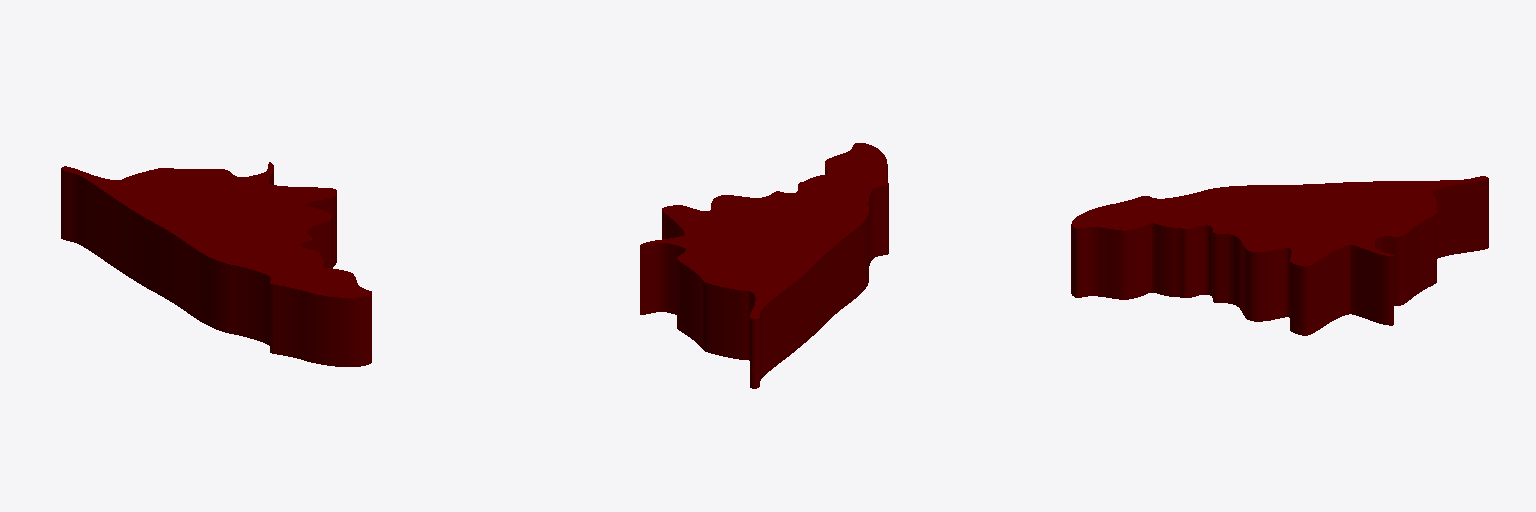
The picture shows the model from 3 angles: view 1: azimuth 30°, elevation 25°; view 2: azimuth 150°, elevation 25°; view 3: azimuth 270°, elevation 25°; orthographic projection.
Visible parts, largest first — view 1: Curve.020_path4216; view 2: Curve.020_path4216; view 3: Curve.020_path4216.
Part boxes in pixels (left/top/right/bottom): Curve.020_path4216: left=61, top=162, right=371, bottom=366; Curve.020_path4216: left=640, top=143, right=888, bottom=388; Curve.020_path4216: left=1071, top=176, right=1488, bottom=335.
Bounding box in the file's own units: 0.2797 × 0.1 × 0.5451.